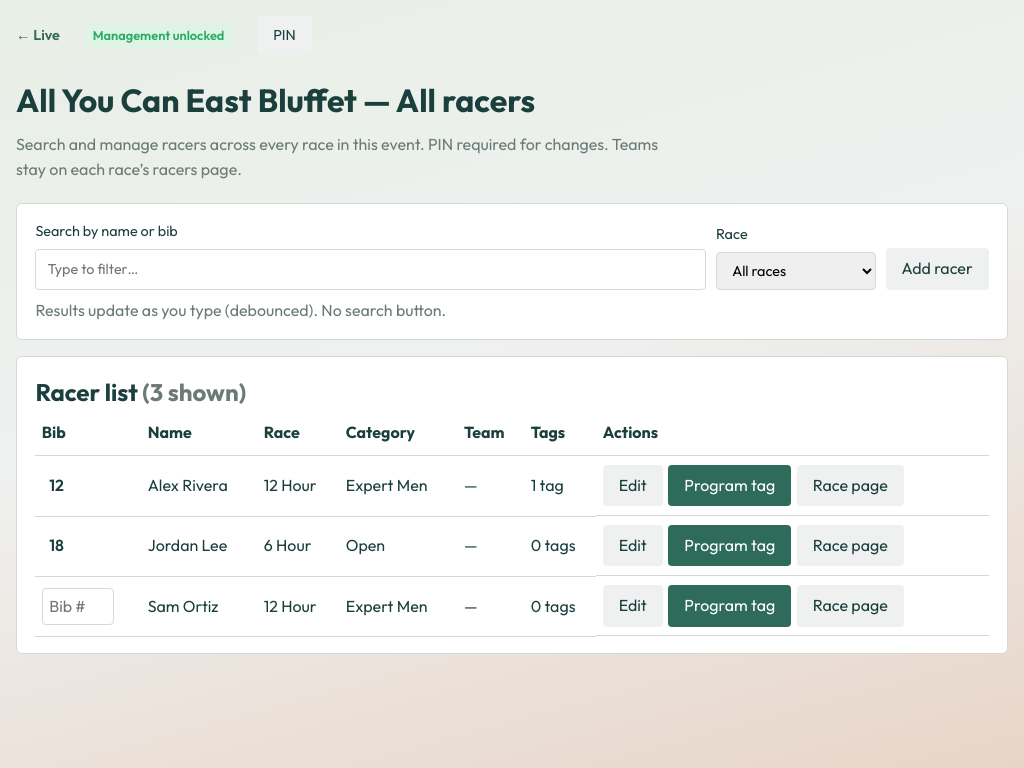
Test: EventRacers.vue › loads all event racers with race labels and search
Check: the heading with test id "event-racers-title" shows "Bluffet", box [16,80,535,120]
Check: the number of rows with test id "racer-row" is 3, box [35,455,989,516]; [35,516,989,576]; [35,576,989,636]
Type "jordan" into the search field with test id "racers-search" at (371, 269), box [35,249,706,290]
Wait 200 ms
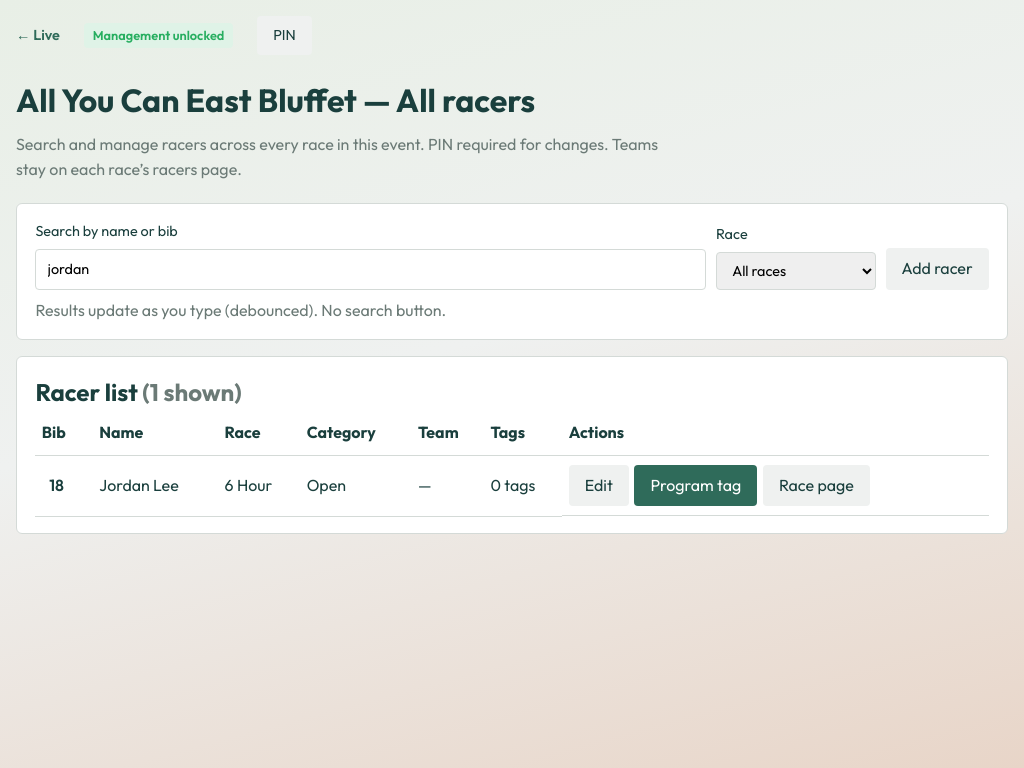
Check: the element with test id "racers-page" shows "Jordan Lee", box [99,475,179,495]
Check: the number of rows with test id "racer-row" is 1, box [35,455,989,516]
